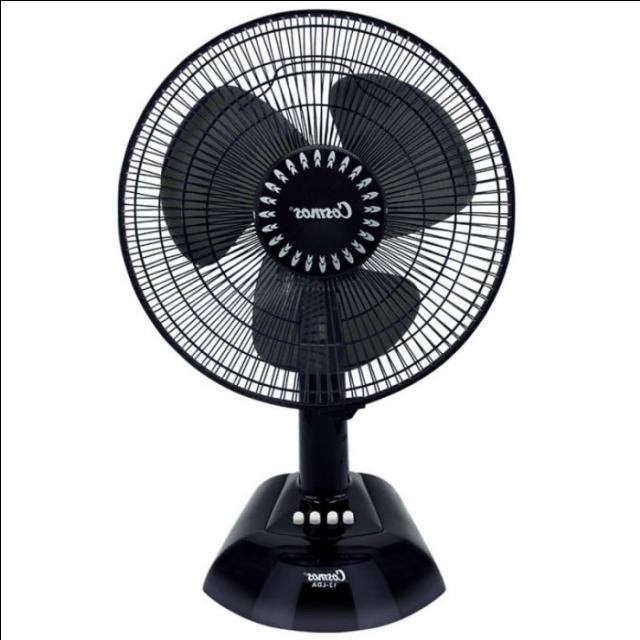fan: (114, 2, 512, 630)
